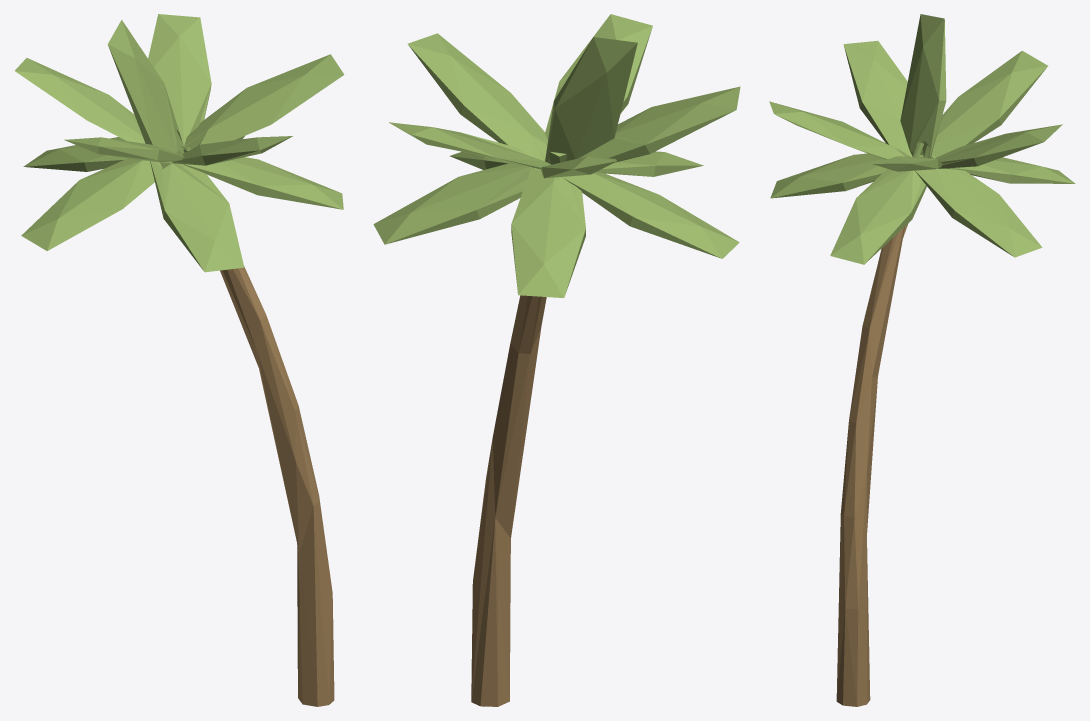
The model's file is PalmTree.fbx.
The picture shows the model from 3 angles, left to right: view 1: azimuth 30°, elevation 25°; view 2: azimuth 150°, elevation 25°; view 3: azimuth 270°, elevation 25°; orthographic projection. The views are drawn at different scales.
Visible parts, largest first — view 1: PalmTree; view 2: PalmTree; view 3: PalmTree.
Boxes of the visible parts, bbox=[...] form: PalmTree: bbox=[15, 14, 344, 706]; PalmTree: bbox=[373, 14, 740, 706]; PalmTree: bbox=[769, 14, 1075, 706].
Bounding box in the file's own units: 657 × 1424 × 641.
